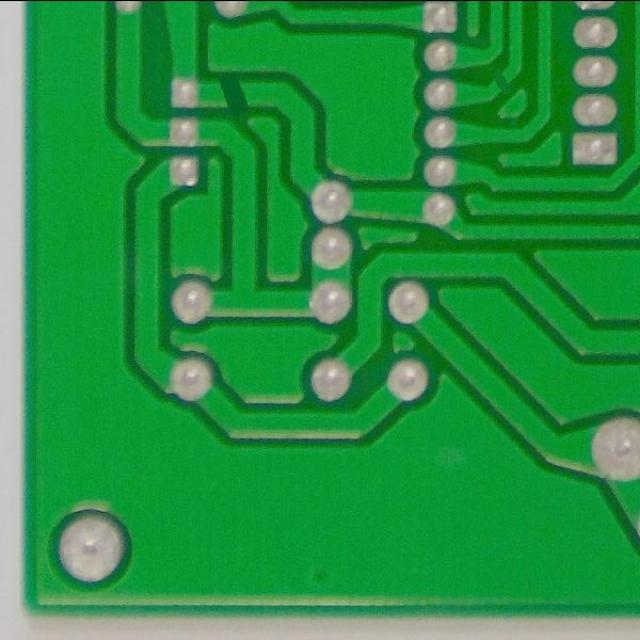Open_Circuit: (202, 68, 264, 119), (484, 63, 518, 98)
